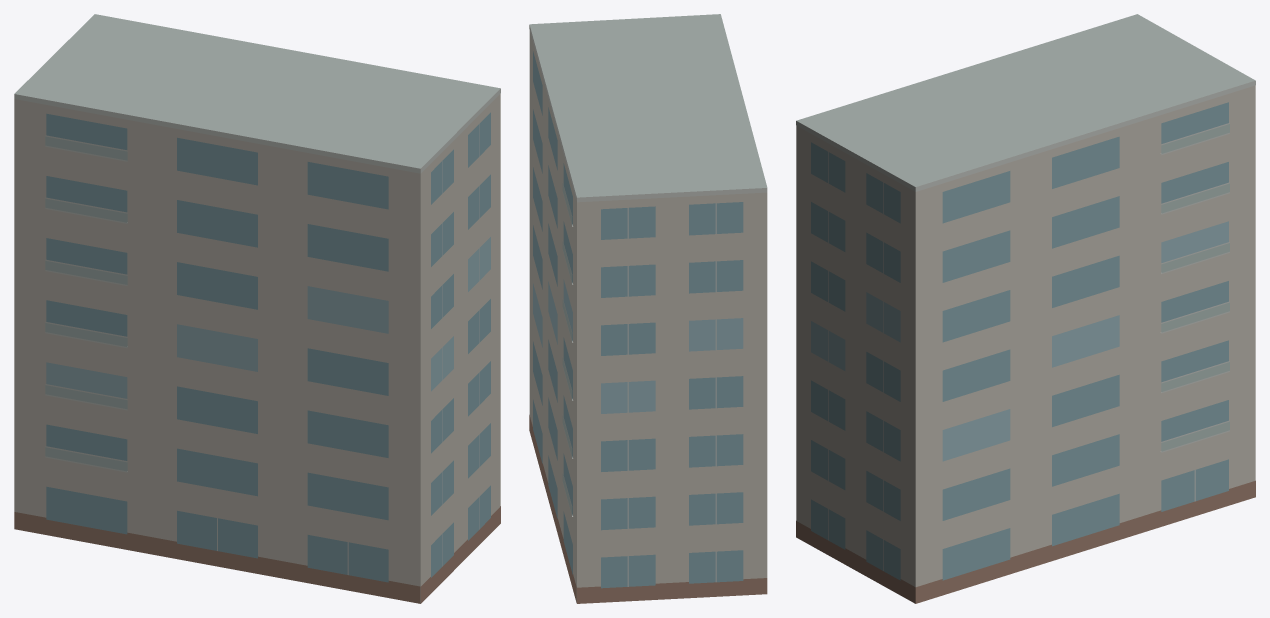
The model's file is survey-upis-32948072.glb.
The picture shows the model from 3 angles, left to right: view 1: azimuth 30°, elevation 25°; view 2: azimuth 150°, elevation 25°; view 3: azimuth 270°, elevation 25°; orthographic projection. The views are drawn at different scales.
Parts seen in each view (by area): view 1: survey-upis-32948072.tmp; view 2: survey-upis-32948072.tmp; view 3: survey-upis-32948072.tmp.
Part boxes in pixels (left/top/right/bottom): survey-upis-32948072.tmp: left=14, top=14, right=500, bottom=603; survey-upis-32948072.tmp: left=529, top=14, right=767, bottom=603; survey-upis-32948072.tmp: left=796, top=14, right=1255, bottom=603.
Bounding box in the file's own units: 18.95 × 21.25 × 21.25.
